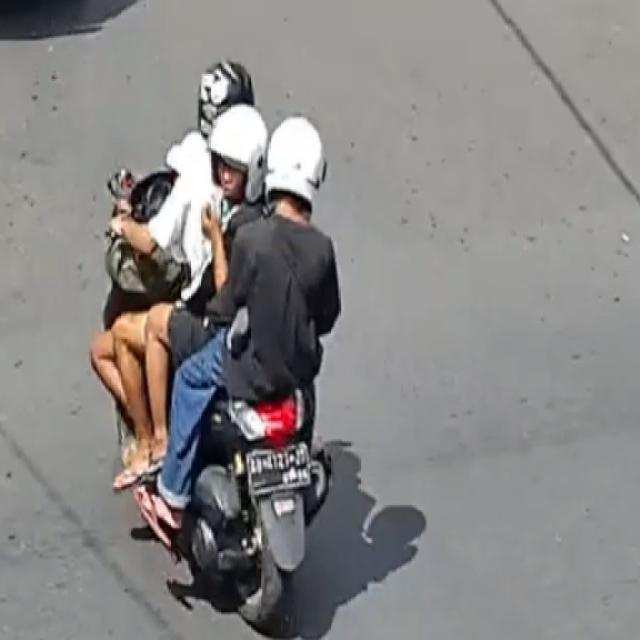helm: (205, 106, 272, 210), (264, 111, 328, 218), (195, 62, 257, 146)
motor: (87, 60, 342, 640)
spion: (107, 162, 141, 212)
